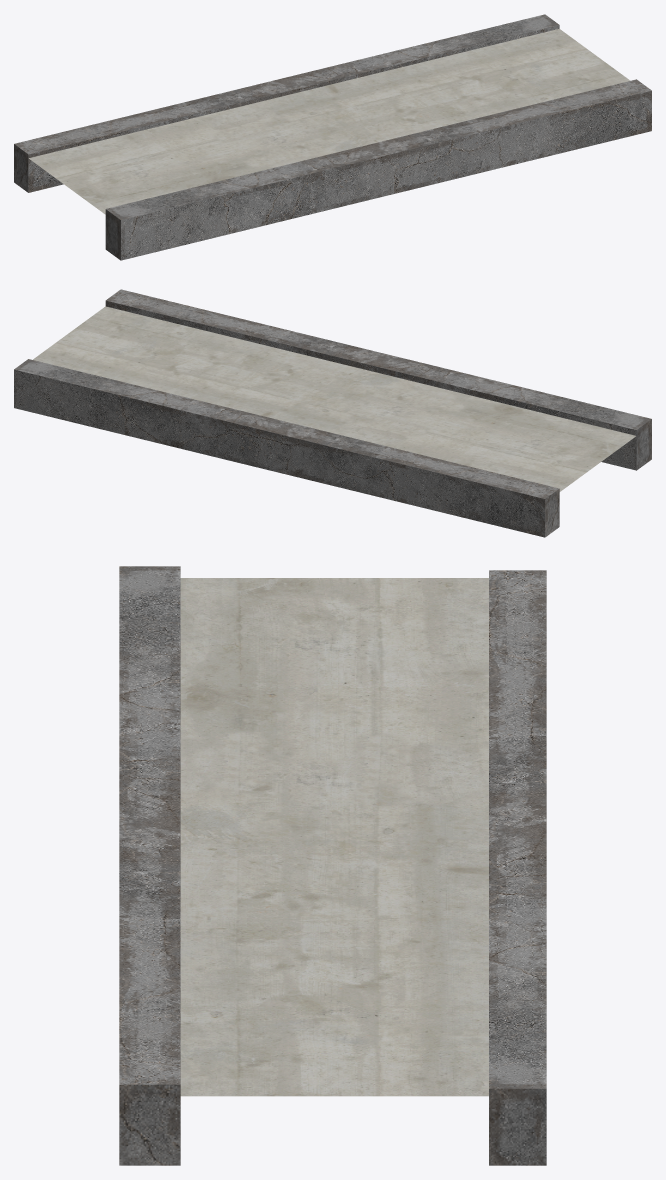
File: HH_Concrete_Island_1.5x4m.fbx
The picture shows the model from 3 angles, top to bottom: view 1: azimuth 30°, elevation 25°; view 2: azimuth 150°, elevation 25°; view 3: azimuth 270°, elevation 25°; orthographic projection. The views are drawn at different scales.
Visible parts, largest first — view 1: HH_Concrete_Island_1.5x4m; view 2: HH_Concrete_Island_1.5x4m; view 3: HH_Concrete_Island_1.5x4m.
Part boxes in pixels (box(x1,y1,x2,y2)): HH_Concrete_Island_1.5x4m: box(14, 14, 651, 260); HH_Concrete_Island_1.5x4m: box(14, 289, 651, 537); HH_Concrete_Island_1.5x4m: box(119, 566, 546, 1165).
Bounding box in the file's own units: 400 × 29.16 × 139.
